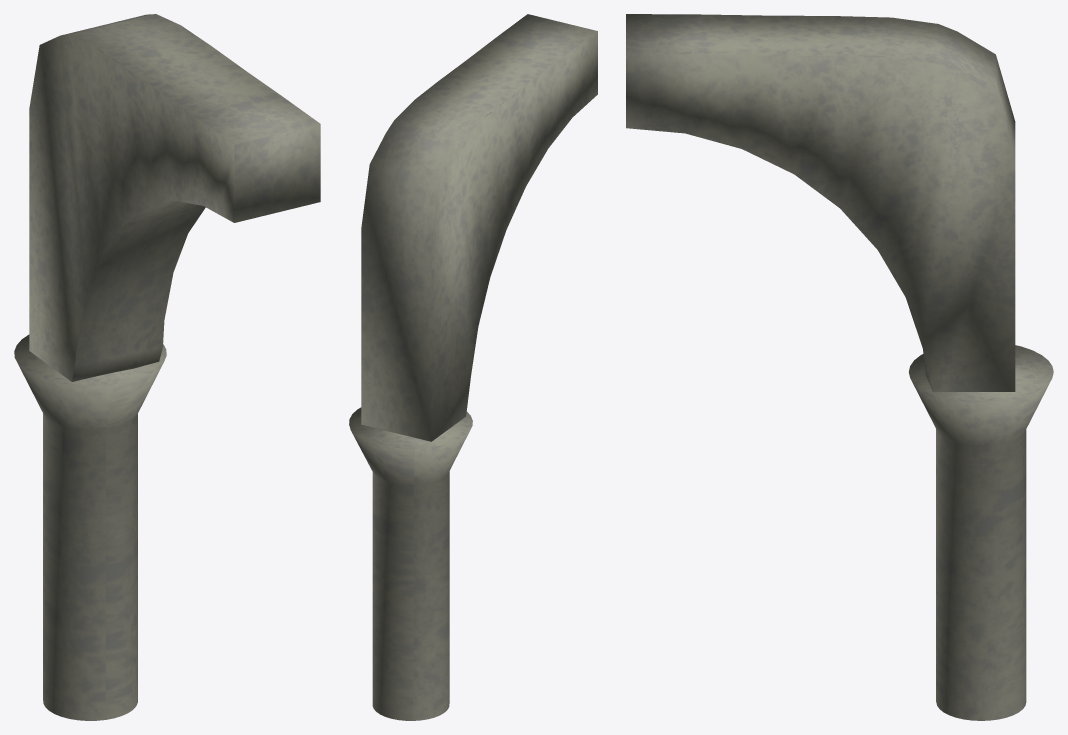
File: column_end.fbx
3 renders of one model, left to right at view 1: azimuth 30°, elevation 25°; view 2: azimuth 150°, elevation 25°; view 3: azimuth 270°, elevation 25°, orthographic. The views are drawn at different scales.
Visible parts, largest first — view 1: Cylinder_002; view 2: Cylinder_002; view 3: Cylinder_002.
Boxes of the visible parts, left/top/right/bottom form: Cylinder_002: left=14, top=14, right=320, bottom=720; Cylinder_002: left=349, top=14, right=597, bottom=720; Cylinder_002: left=626, top=14, right=1053, bottom=720.
Bounding box in the file's own units: 3.22 × 16.33 × 9.48.
Materials: 1 (1 with a texture image).
